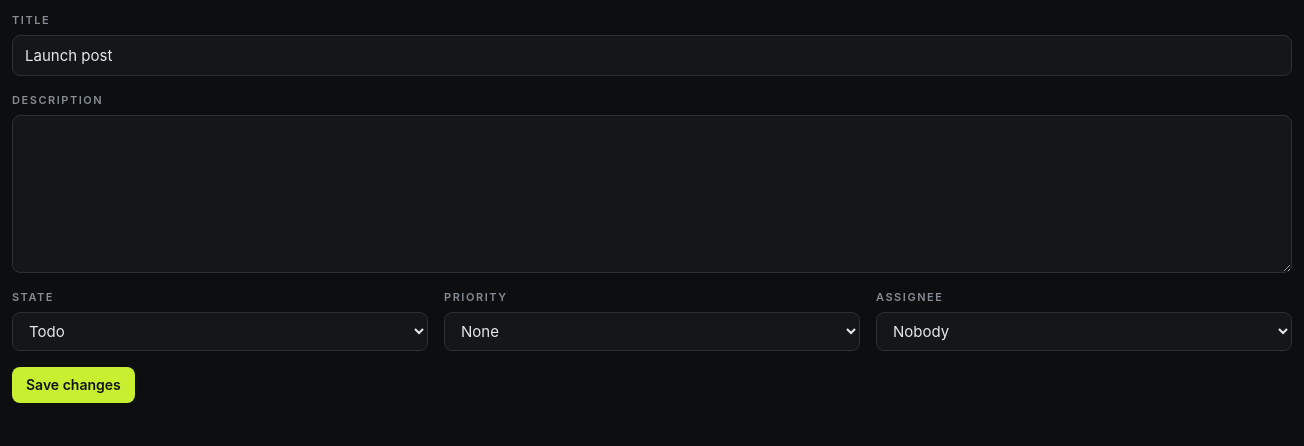
Scenario: TaskForm › shows field errors, e.g. an assignee who is not a member
The image size is (1304, 446).
Select "Ada Lovelace" in the dropdown labelled "Assignee" at (1084, 331), box [876,312,1292,351]
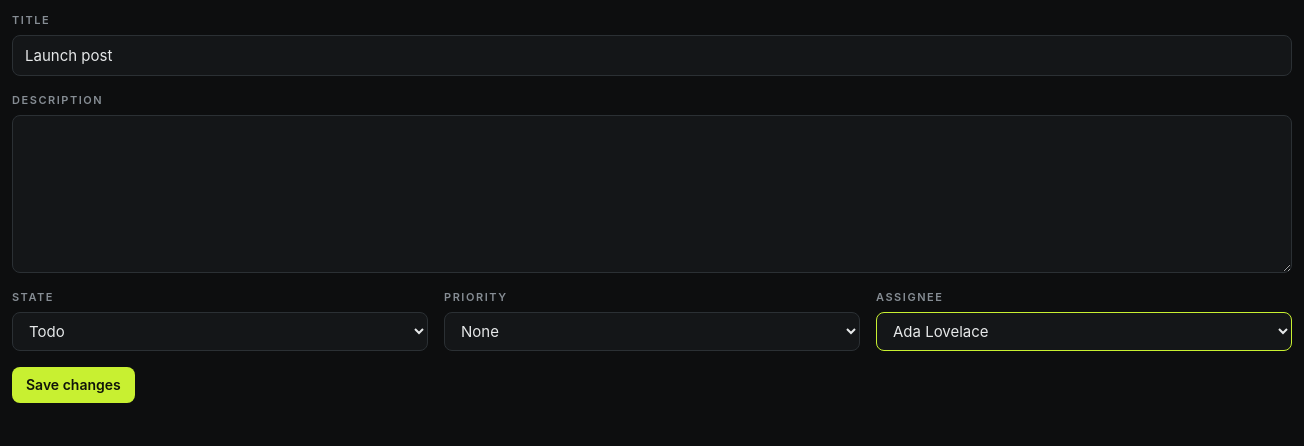
Click the button "Save changes" at (73, 385), box [12,367,135,403]
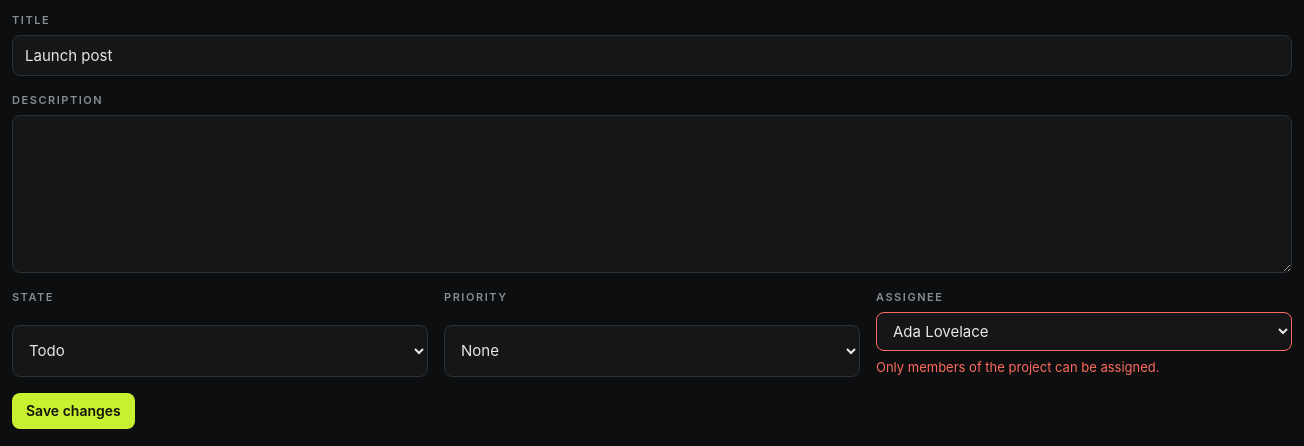
Now the text "Only members of the project can be assigned." is shown, box [876,359,1160,375]
